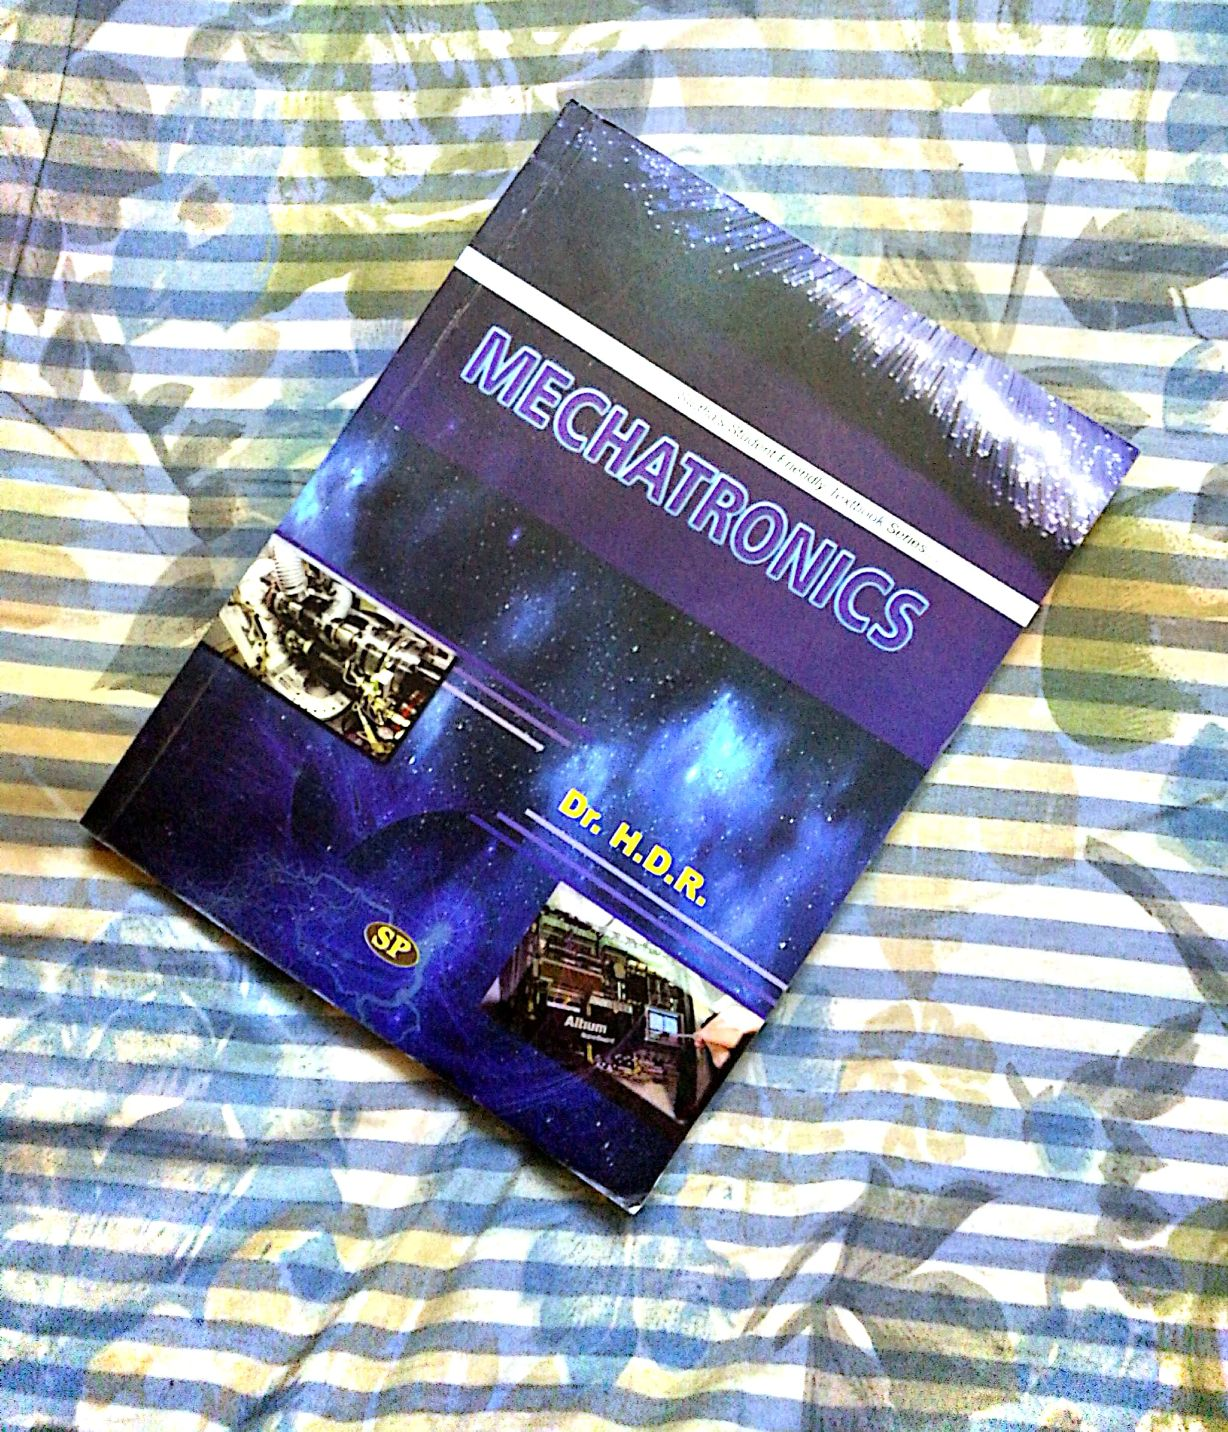mechatronics: (111, 83, 1061, 1159)
